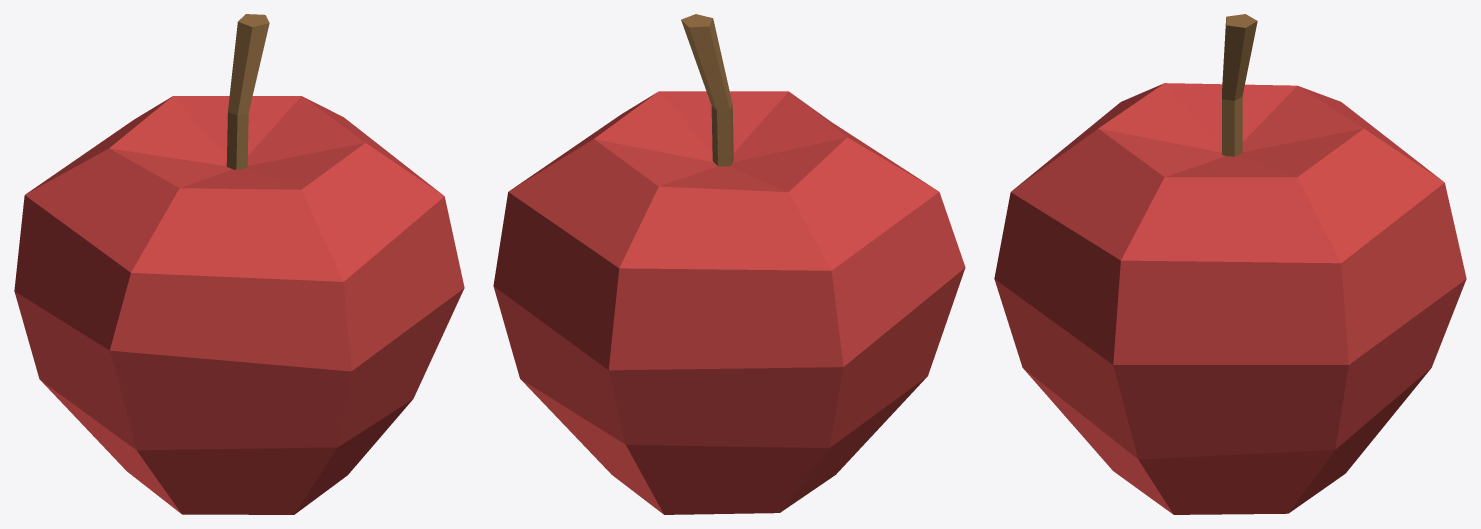
File: Apple1.fbx
3 views of the same model, side by side, from view 1: azimuth 30°, elevation 25°; view 2: azimuth 150°, elevation 25°; view 3: azimuth 270°, elevation 25° (orthographic). The views are drawn at different scales.
Parts seen in each view (by area): view 1: Cylinder; view 2: Cylinder; view 3: Cylinder.
Boxes of the visible parts, <box> form: Cylinder: <box>14,14,464,514</box>; Cylinder: <box>493,14,965,514</box>; Cylinder: <box>994,14,1466,514</box>.
Size of the model in its own units: 0.1759 by 0.2124 by 0.1964.
